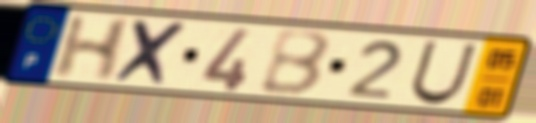2: (344, 38, 408, 101)
4: (197, 24, 252, 94)
B: (257, 29, 335, 99)
H: (48, 14, 136, 83)
U: (406, 38, 481, 107)
X: (109, 17, 195, 90)
